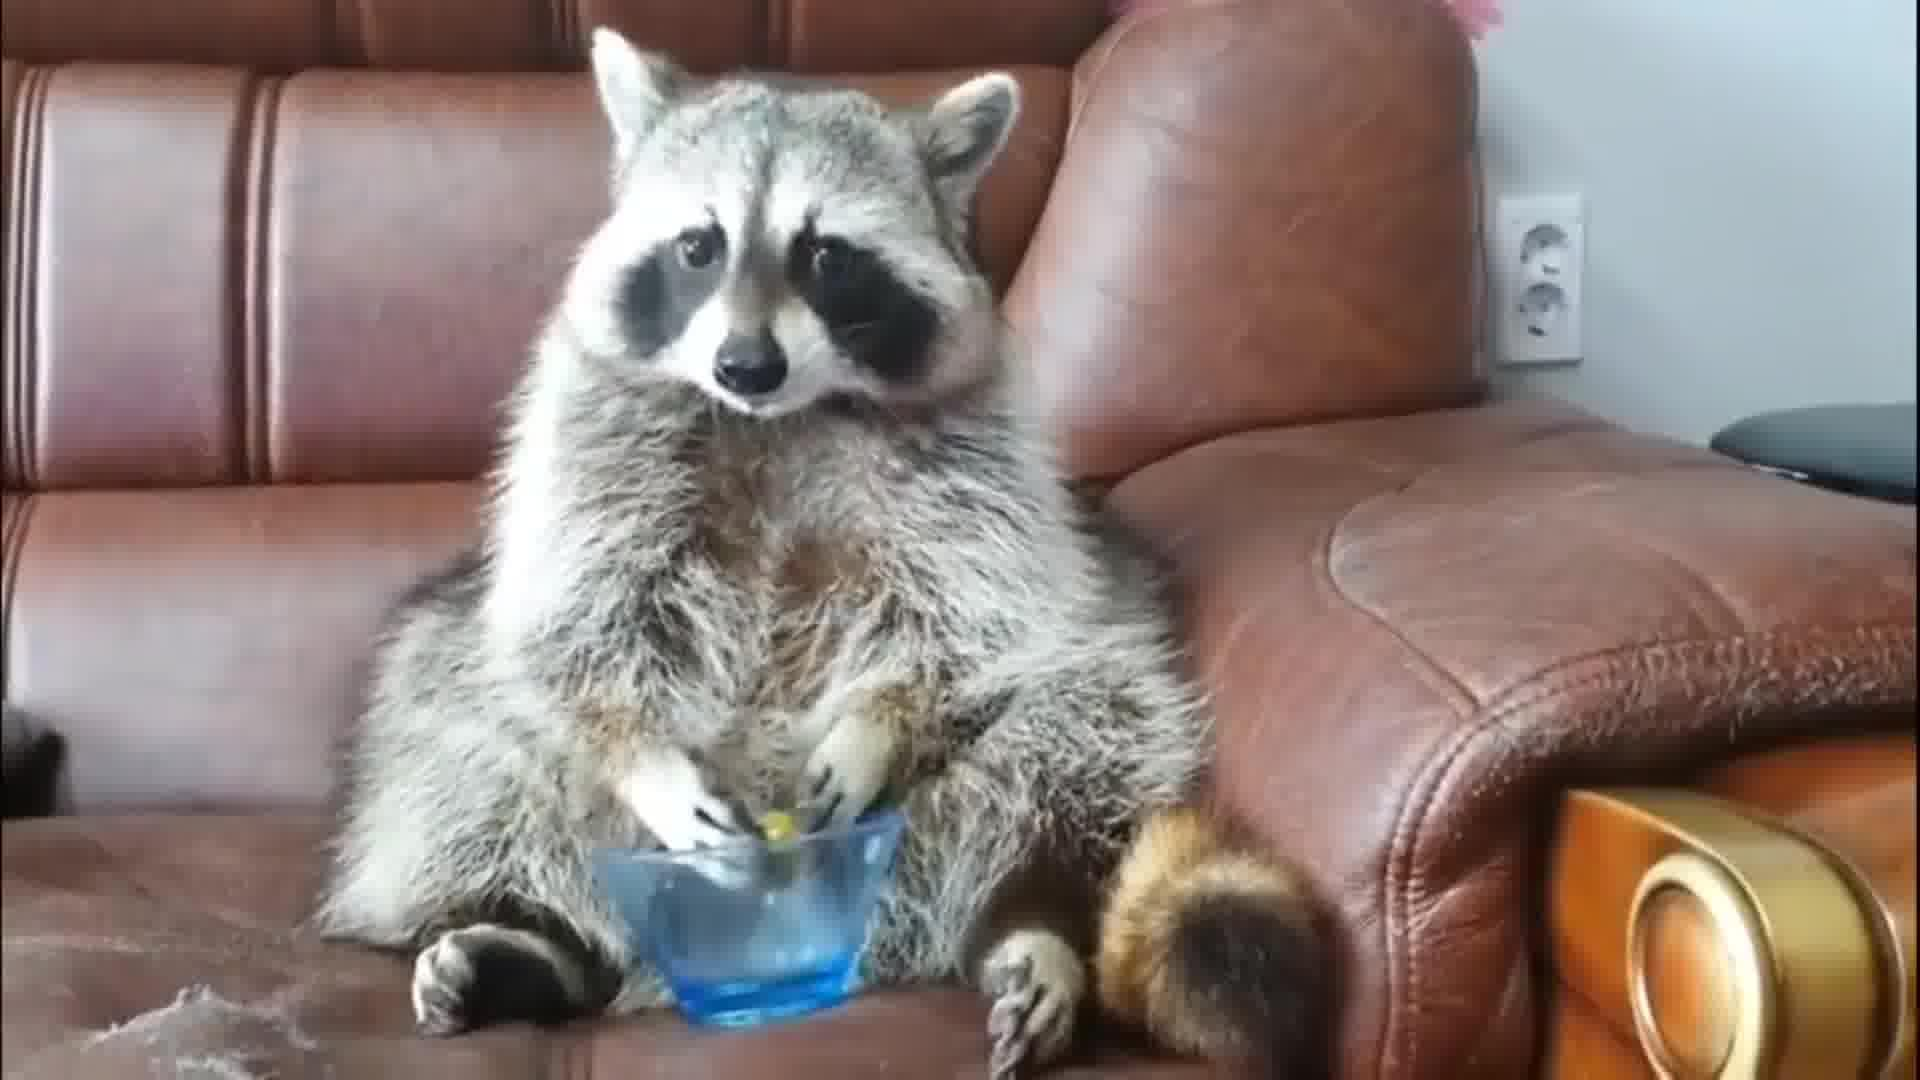raccoon: (299, 19, 1351, 1080)
